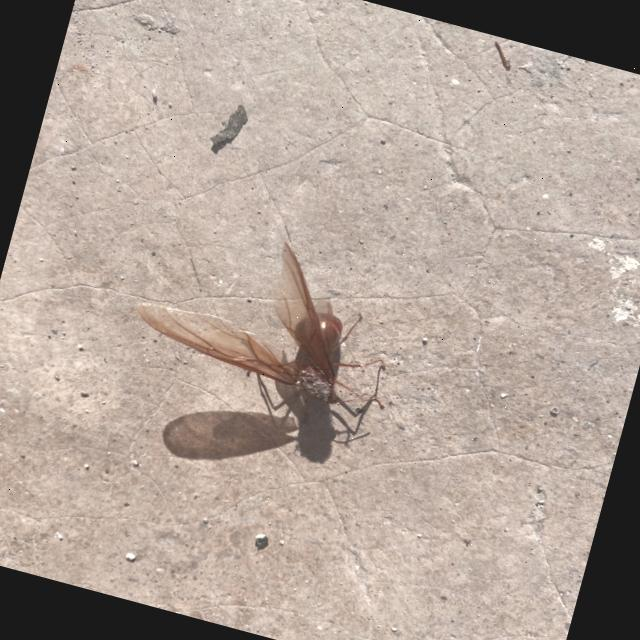Alive-Male-Alate: (118, 209, 419, 444)
